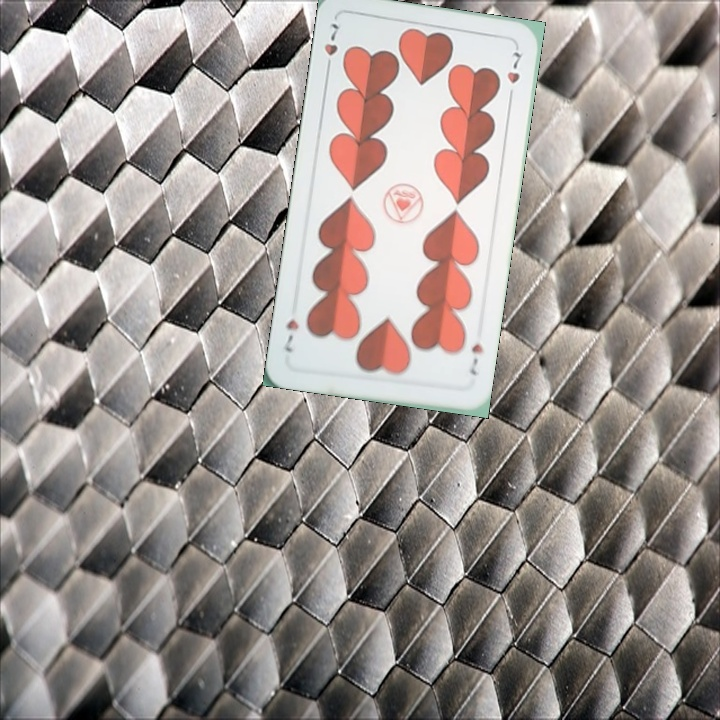H7: (320, 19, 341, 76), (465, 339, 486, 378)
